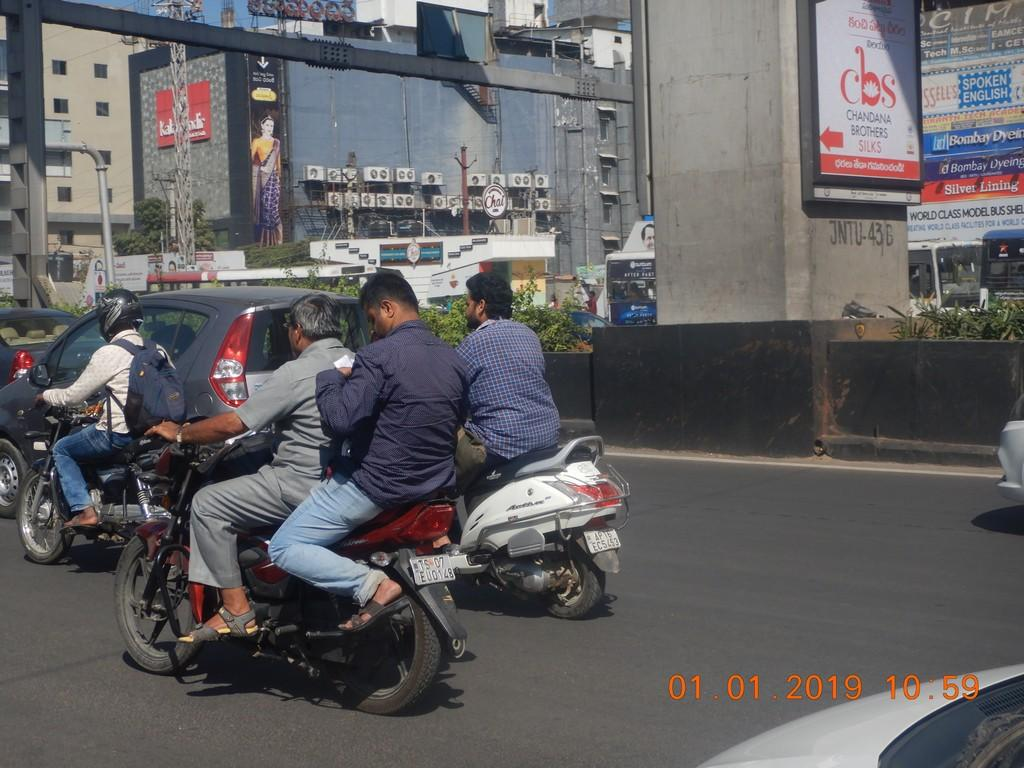plate: (414, 552, 456, 586), (587, 527, 621, 553)
